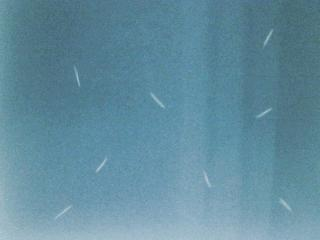scratch: (257, 25, 276, 58), (91, 151, 114, 178), (68, 63, 86, 93), (53, 200, 77, 222), (148, 88, 169, 112), (196, 166, 215, 191), (275, 192, 294, 215), (254, 101, 274, 122)
